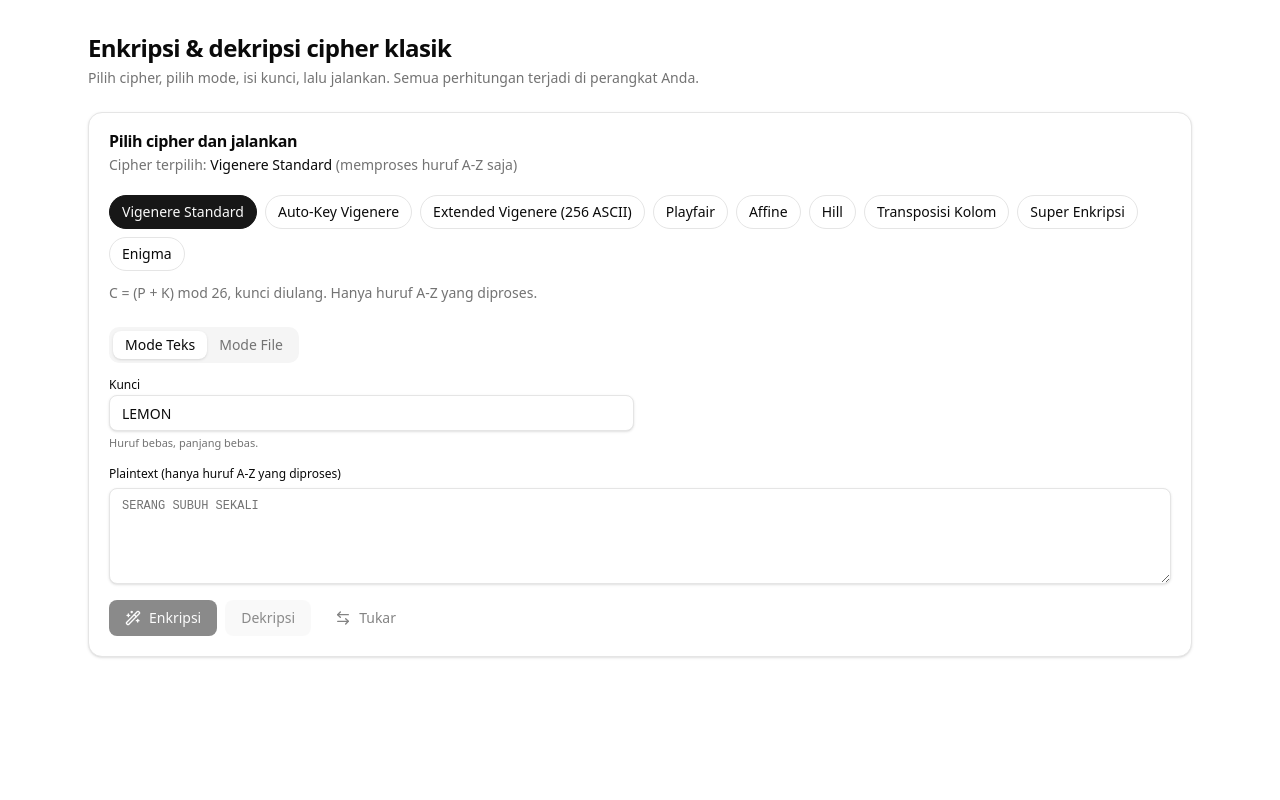
S16 — halaman utama › Hill menampilkan grid matriks kunci (bukan satu kolom teks)
Click the radio button labelled "Hill" at (832, 212), box [809,195,856,229]
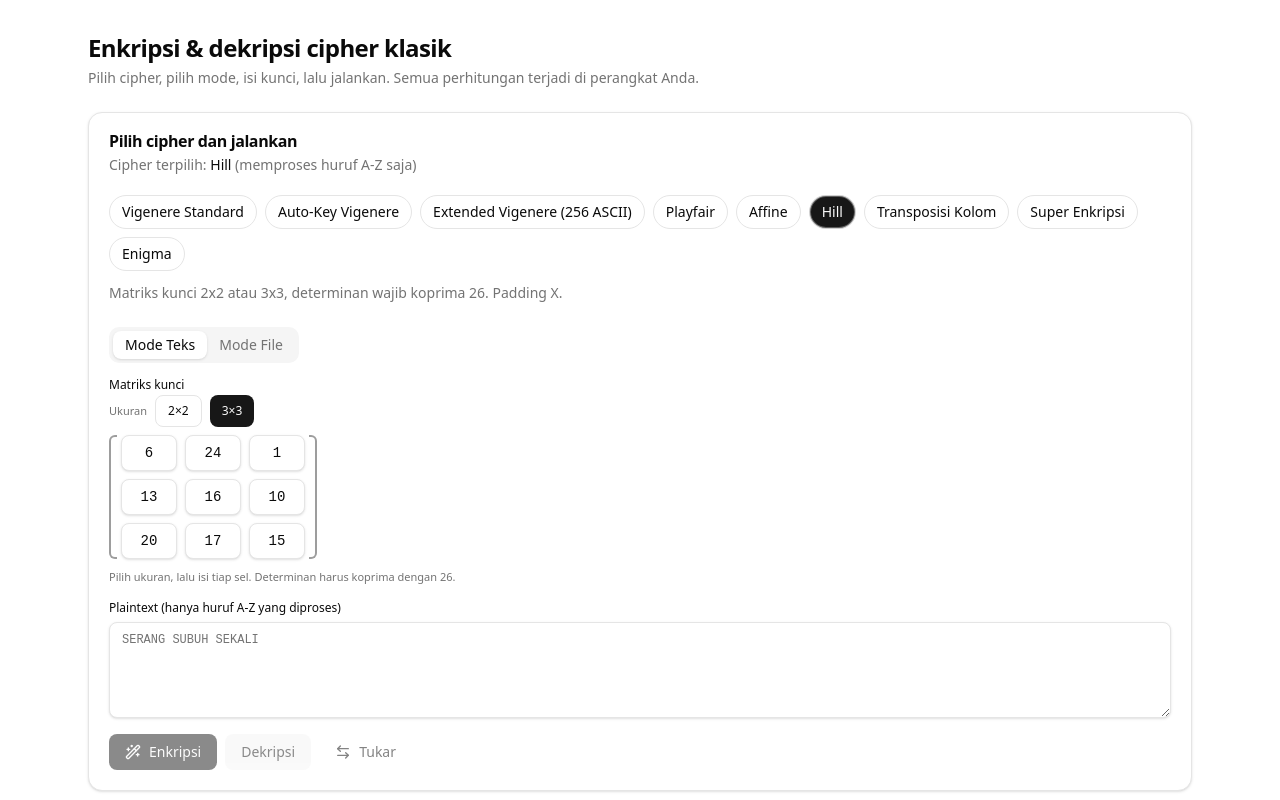
Check: the button "2×2" is shown, box [155,395,202,427]
Check: the button "3×3" is shown, box [210,395,254,427]
Check: the field named "Matriks kunci baris 1 kolom 1" is shown, box [121,435,177,471]
